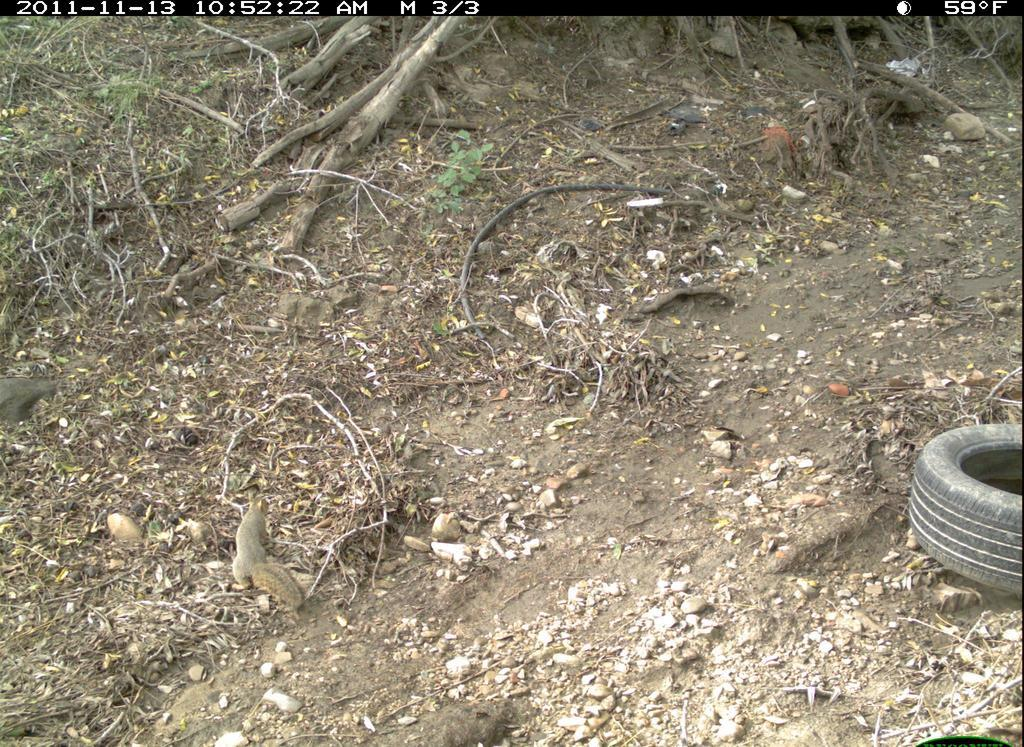squirrel: (222, 489, 314, 615)
